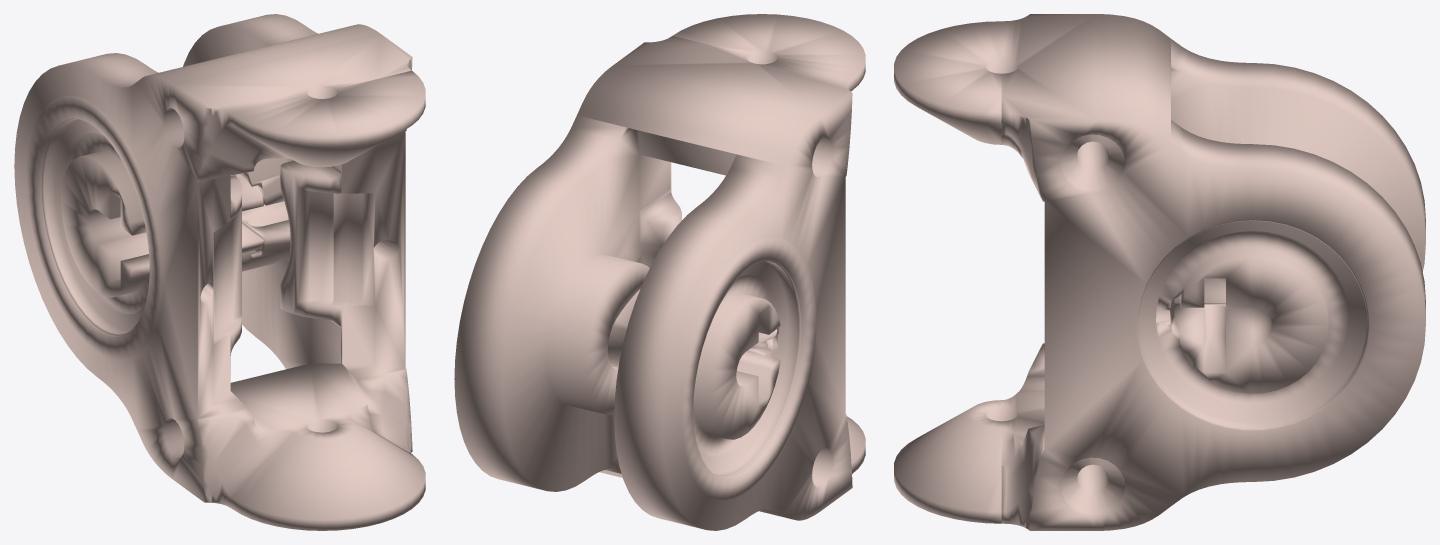
Rendered from wrist_upper_1.obj.
3 views of the same model, side by side, from view 1: azimuth 30°, elevation 25°; view 2: azimuth 150°, elevation 25°; view 3: azimuth 270°, elevation 25° (orthographic). The views are drawn at different scales.
Bounding box in the file's own units: 23.59 × 42 × 49.24.
